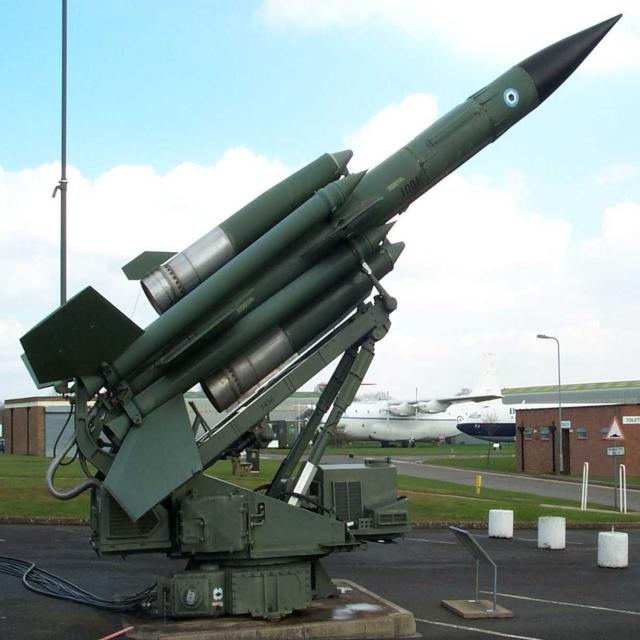missile: (22, 9, 623, 518)
